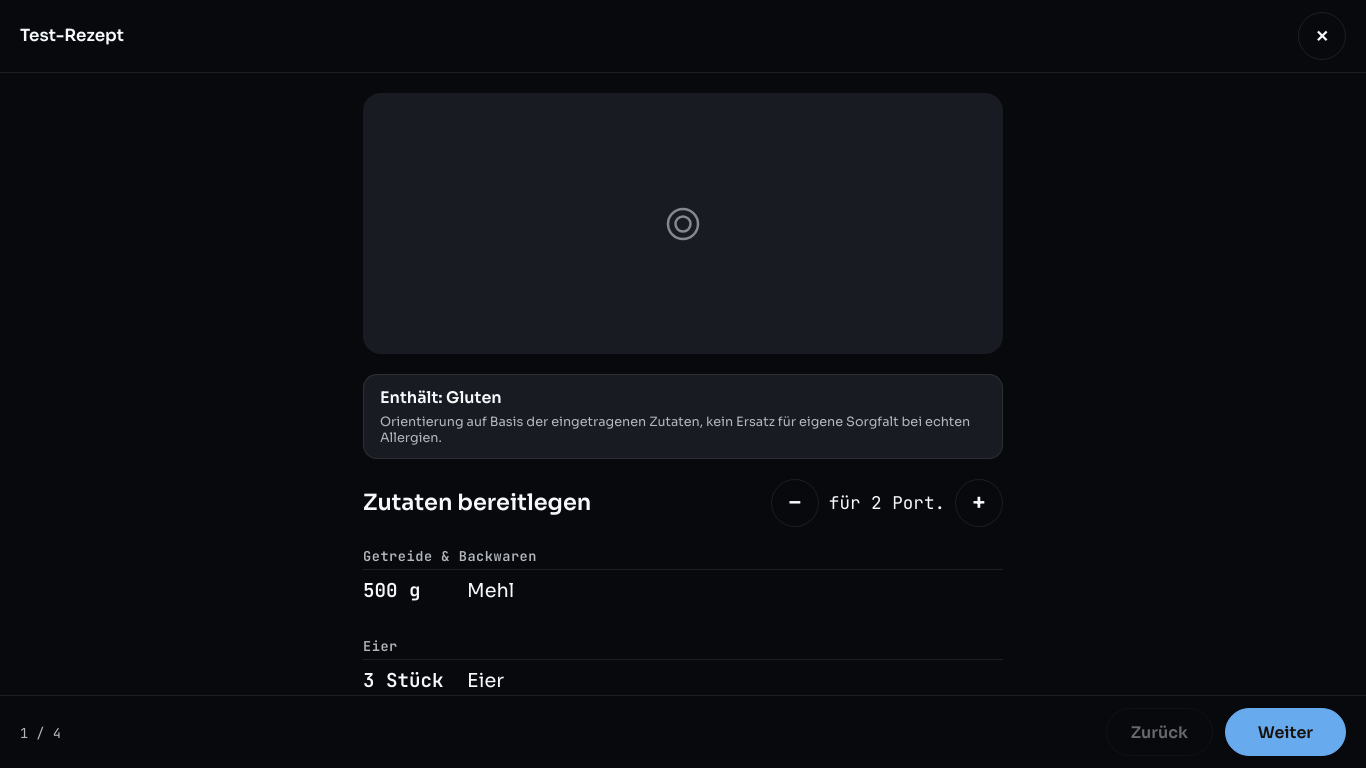
CookingDialog — Allergen-Zeile (E10) › Schritt-Seiten tragen die Allergen-Zeile nicht
What coordinates should you click on to do the following:
click the button "Weiter"
I would click on:
 (1285, 732)
Its box is [1225, 708, 1346, 756].
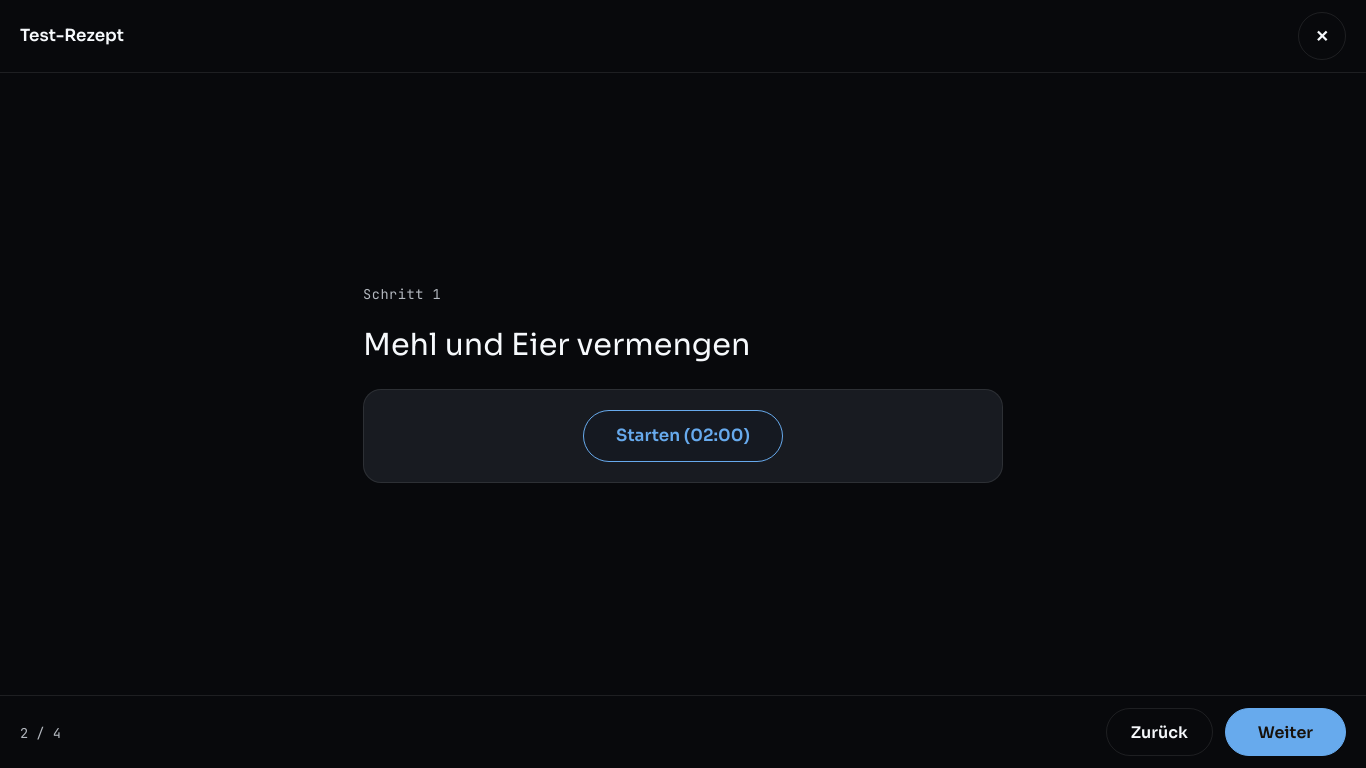
Now the text "Enthält:" is gone
